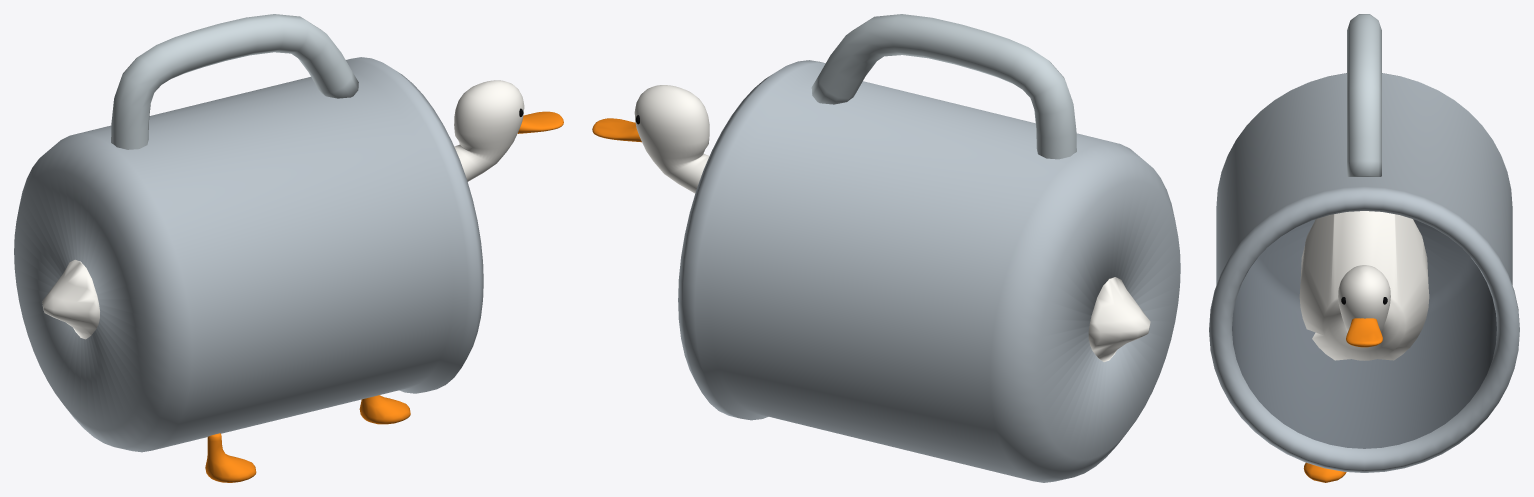
File: duck-steelcup.glb
The picture shows the model from 3 angles, left to right: view 1: azimuth 30°, elevation 25°; view 2: azimuth 150°, elevation 25°; view 3: azimuth 270°, elevation 25°; orthographic projection. The views are drawn at different scales.
Visible parts, largest first — view 1: duck-steelcup; view 2: duck-steelcup; view 3: duck-steelcup.
Part boxes in pixels (<box>): duck-steelcup: <box>14,14,563,482</box>; duck-steelcup: <box>592,14,1180,482</box>; duck-steelcup: <box>1209,14,1519,482</box>.
Size of the model in its own units: 1 by 0.7607 by 0.5726.
Materials: 1 (1 with a texture image).
